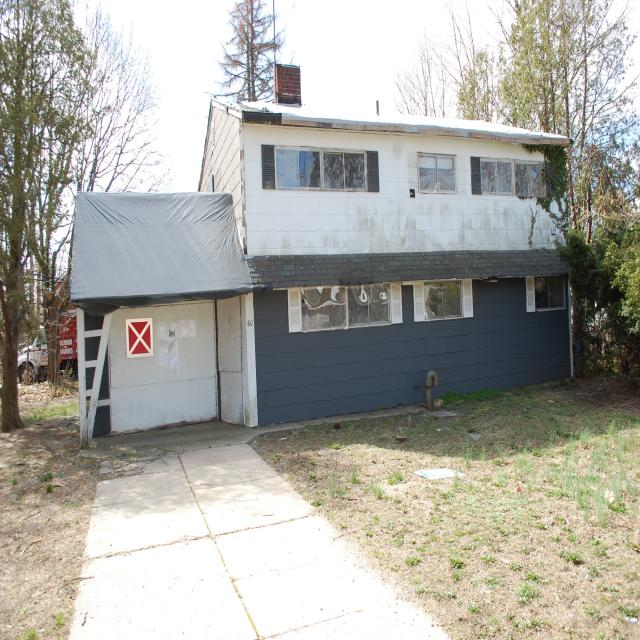House: (72, 58, 574, 446)
